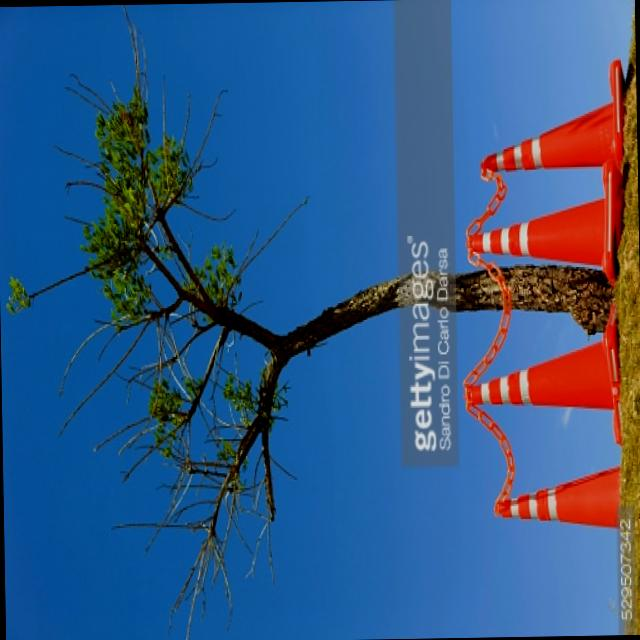cone: (473, 50, 627, 181), (472, 440, 624, 568), (461, 314, 617, 432), (458, 184, 628, 280)
